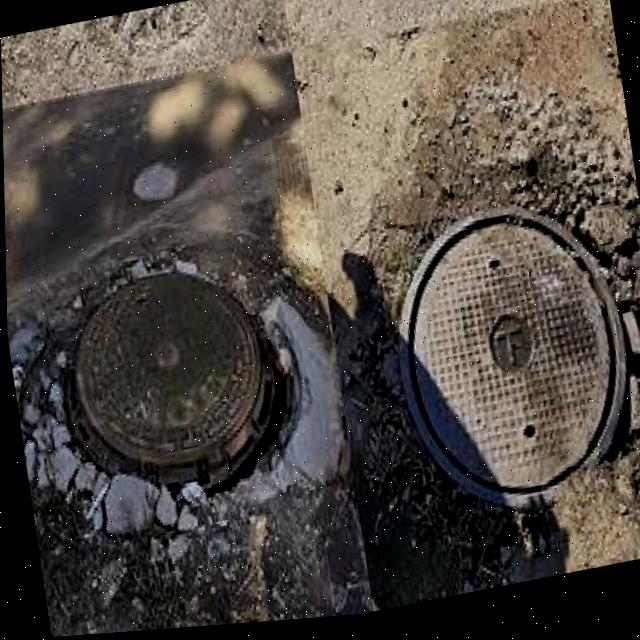manhole: (366, 173, 640, 540)
